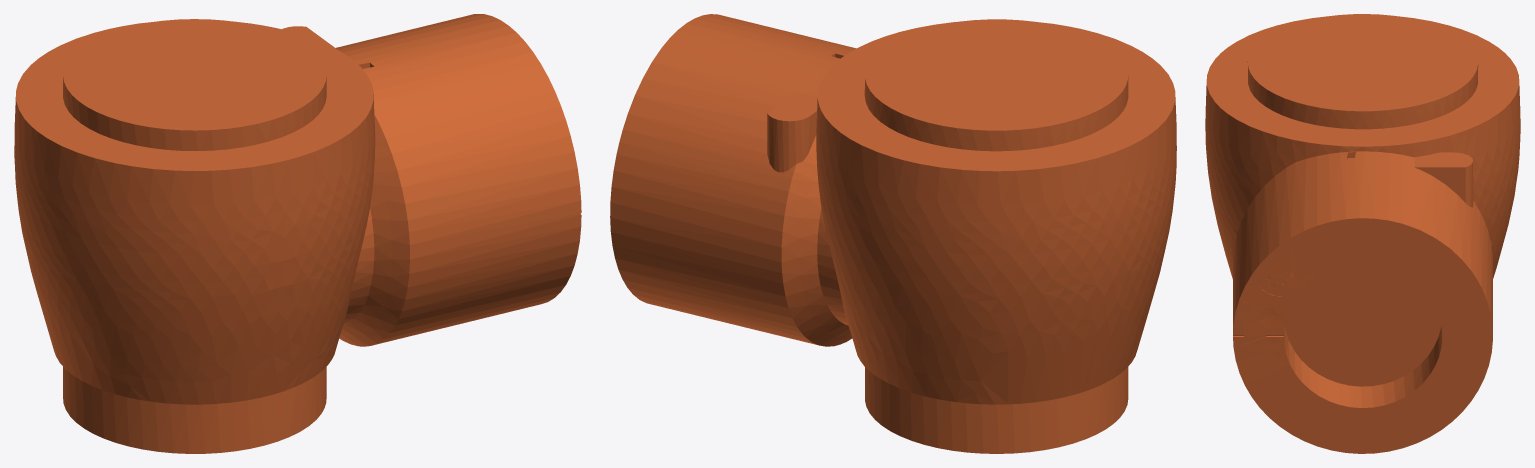
3 renders of one model, left to right at view 1: azimuth 30°, elevation 25°; view 2: azimuth 150°, elevation 25°; view 3: azimuth 270°, elevation 25°, orthographic. The views are drawn at different scales.
Parts seen in each view (by area): view 1: link_5; view 2: link_5; view 3: link_5.
Boxes of the visible parts, box(x1,y1,x2,y2) form: link_5: box(14, 14, 581, 453); link_5: box(610, 14, 1176, 453); link_5: box(1205, 14, 1520, 453).
Size of the model in its own units: 0.119 by 0.0785 by 0.0794.
